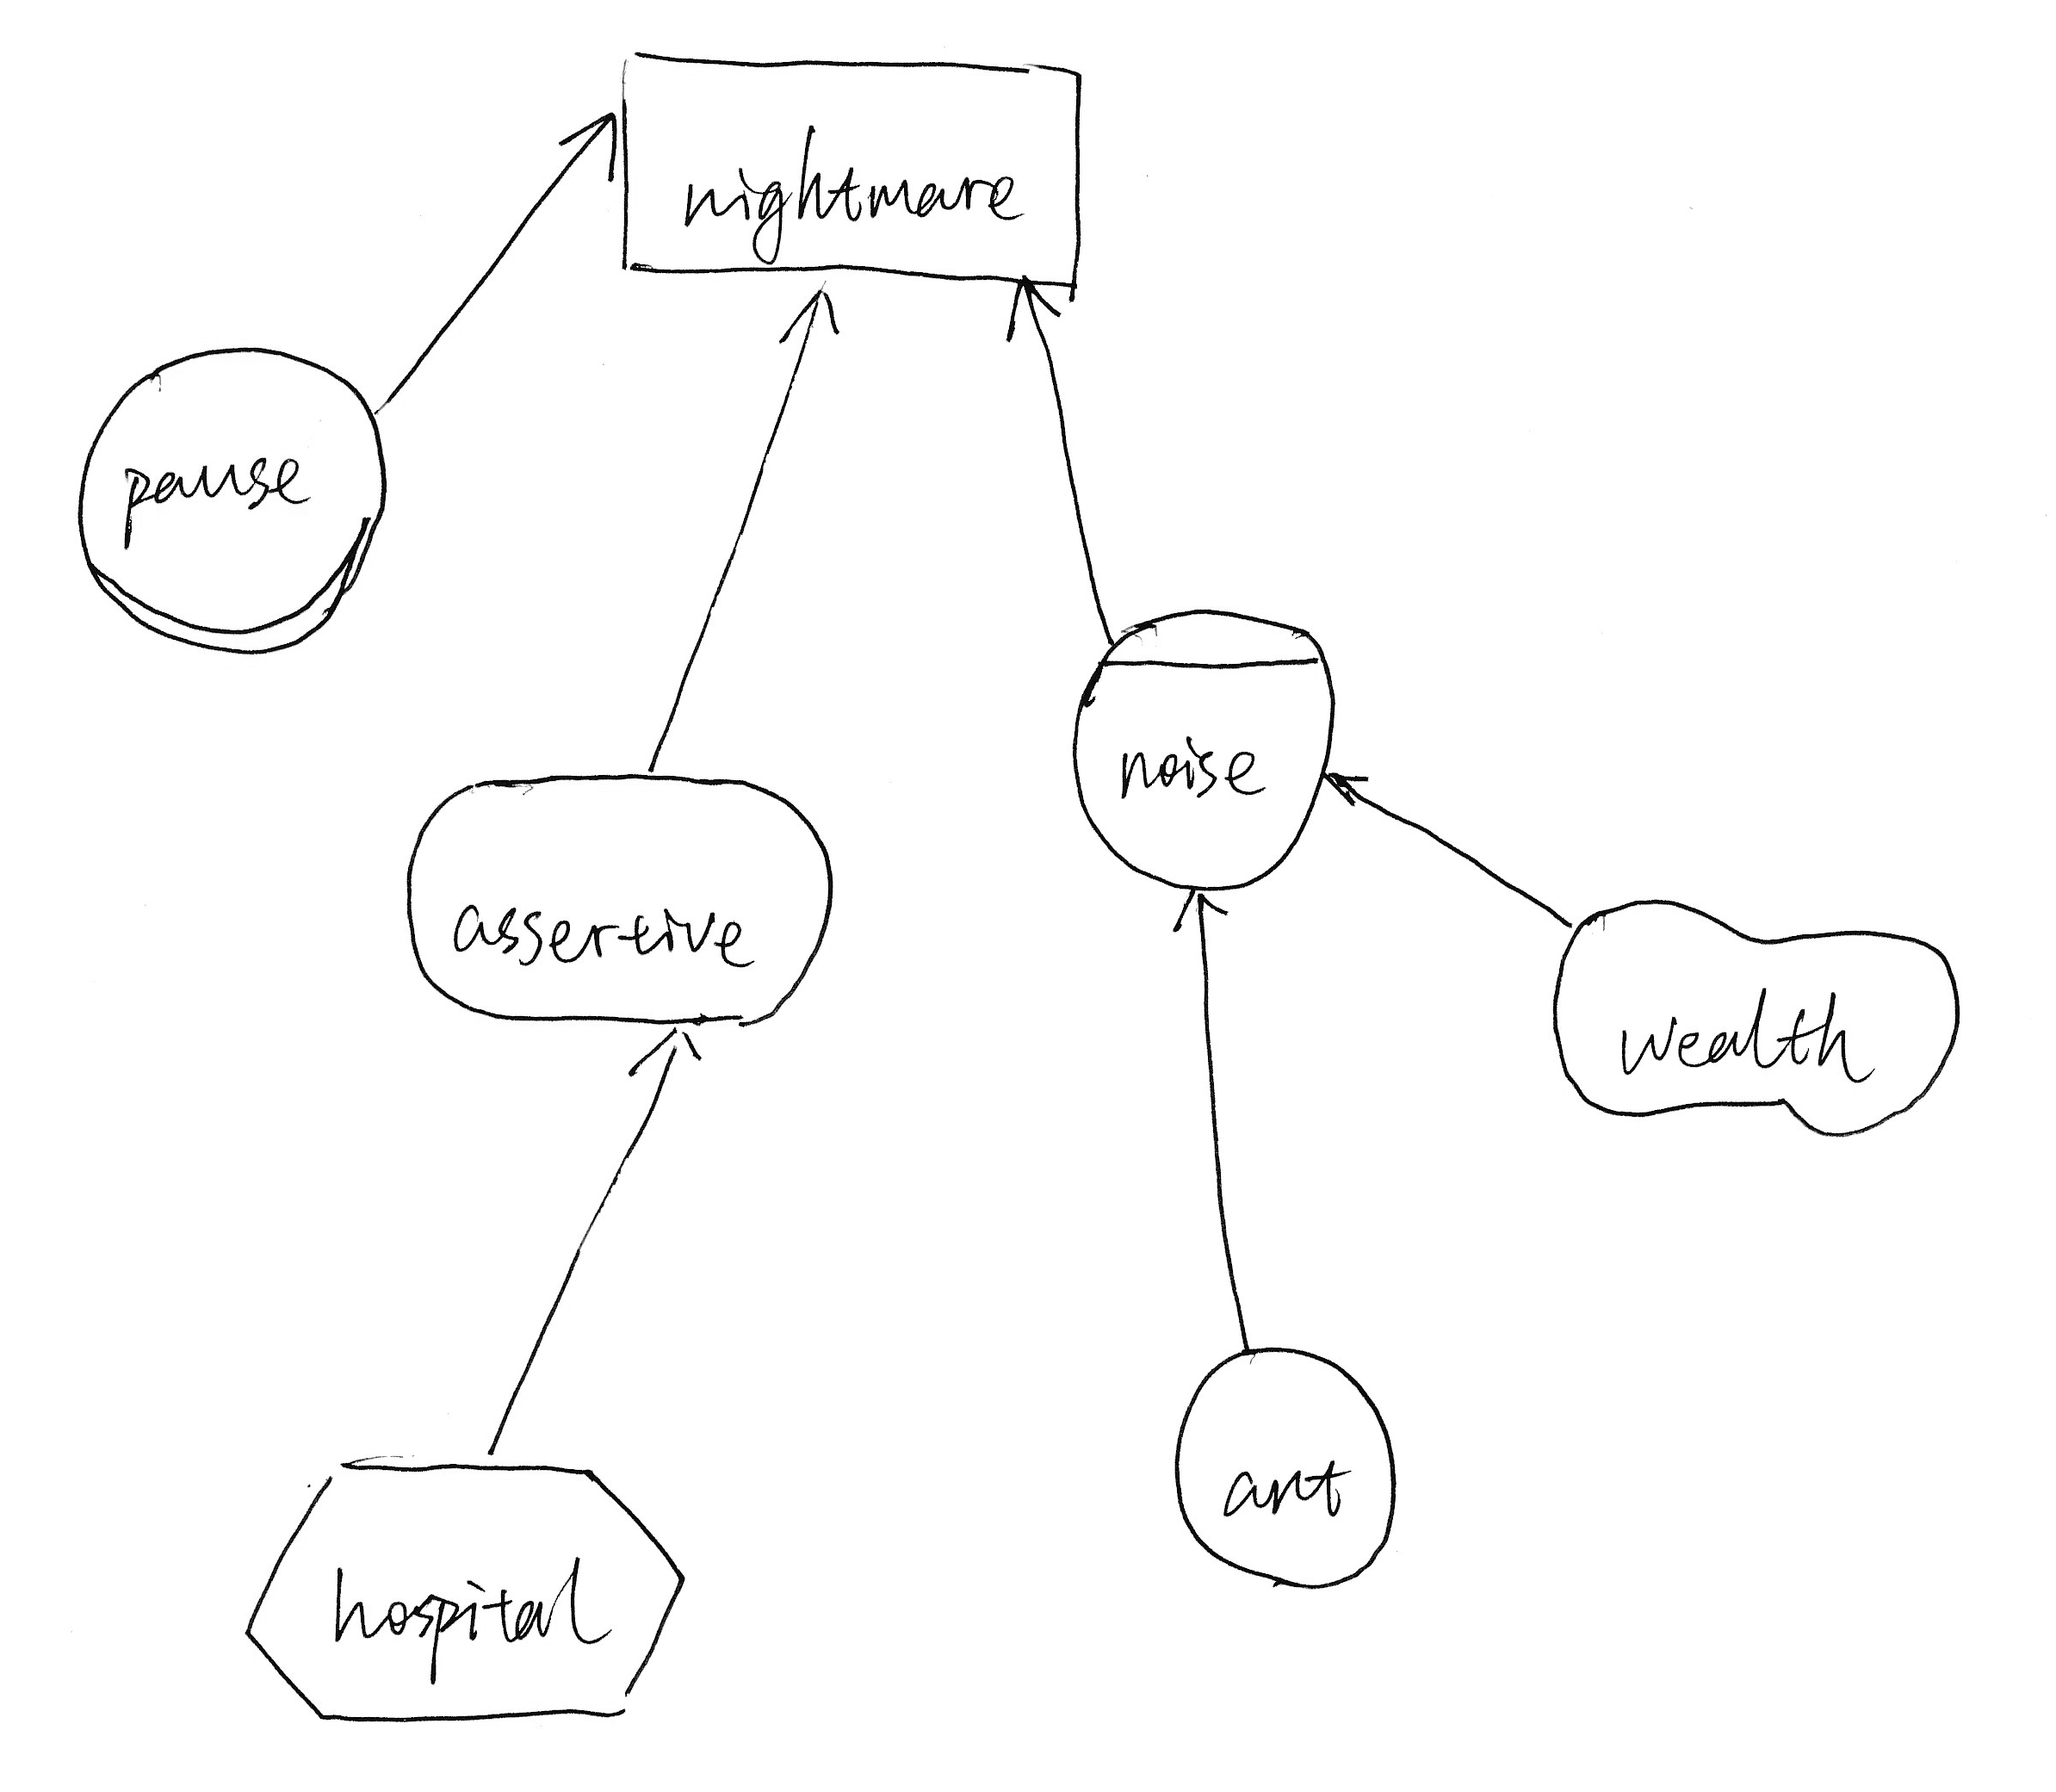actor: (1157, 1327, 1413, 1607)
agent: (1056, 594, 1351, 906)
arrow: (552, 101, 628, 199), (771, 273, 855, 357), (617, 1021, 715, 1087), (995, 274, 1077, 343), (1154, 888, 1247, 946), (1320, 761, 1378, 816)
goal: (392, 757, 850, 1049)
quality: (1542, 886, 1977, 1154)
resource: (607, 26, 1103, 309)
role: (63, 336, 402, 668)
task: (227, 1444, 703, 1741)
